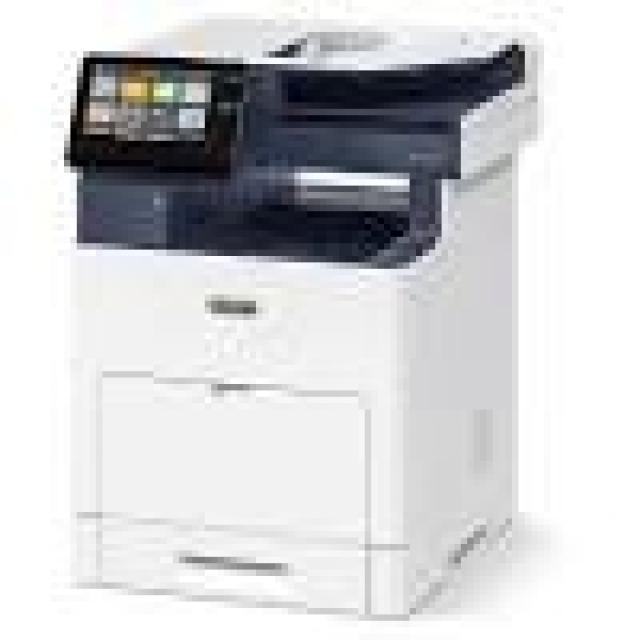printer: (32, 6, 570, 640)
